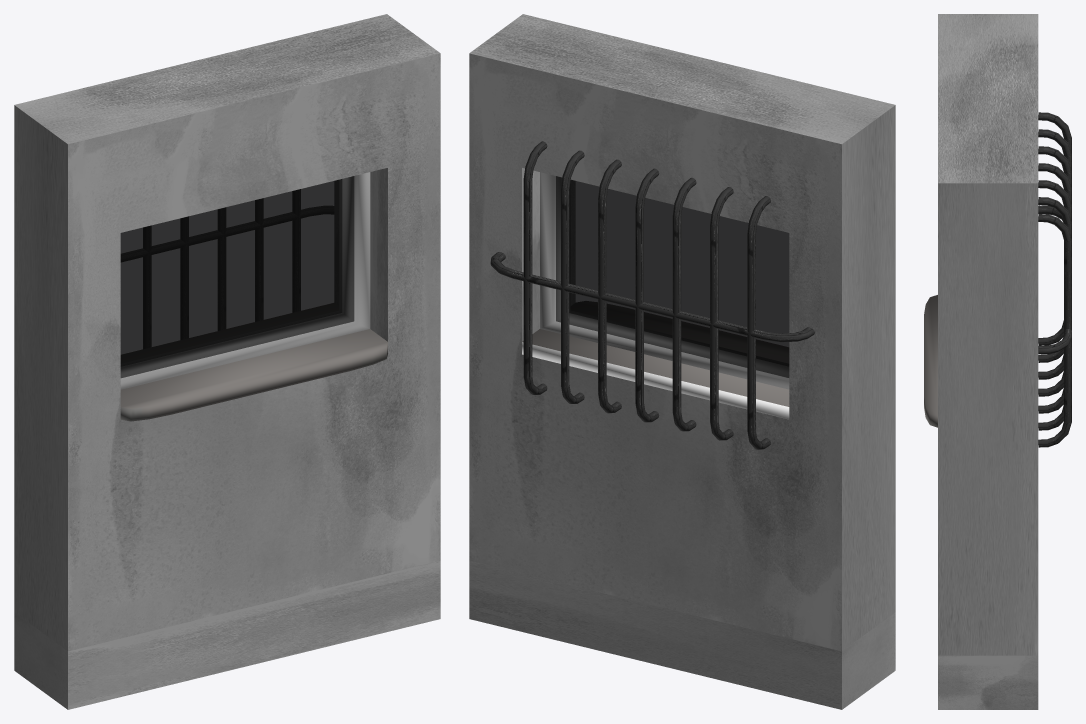
The model's file is Gitterstäbe.fbx.
The picture shows the model from 3 angles, left to right: view 1: azimuth 30°, elevation 25°; view 2: azimuth 150°, elevation 25°; view 3: azimuth 270°, elevation 25°; orthographic projection. The views are drawn at different scales.
Visible parts, largest first — view 1: WandFenster.001, Fenster.001, Cube.005, Plane.007, Plane.003, Plane.001, Plane.002, Gitterstäbe, Plane.006; view 2: WandFenster.001, Fenster.001, Cube.005, Plane.007, Plane.006, Plane.003, Gitterstäbe, Plane.001, Plane.004, Plane.005, Plane.002; view 3: WandFenster.001, Cube.005, Plane.003, Fenster.001, Gitterstäbe, Plane.006, Plane.001, Plane.002, Plane.004, Plane.005, Plane.007.
Boxes of the visible parts, x1,y1,x2,y2 form: WandFenster.001: (14,14,440,651); Fenster.001: (120,172,387,421); Cube.005: (14,560,440,709); Plane.007: (121,206,333,261); Plane.003: (293,189,300,311); Plane.001: (218,208,225,330); Plane.002: (255,199,262,321); Gitterstäbe: (181,217,188,339); Plane.006: (143,226,150,348); WandFenster.001: (469,14,895,651); Fenster.001: (522,172,789,419); Cube.005: (469,560,895,709); Plane.007: (490,252,814,342); Plane.006: (672,177,696,431); Plane.003: (523,141,547,394); Gitterstäbe: (635,168,659,422); Plane.001: (598,159,621,413); Plane.004: (747,196,770,449); Plane.005: (710,187,733,440); Plane.002: (561,150,584,403); WandFenster.001: (938,14,1038,655); Cube.005: (938,655,1038,709); Plane.003: (1038,214,1071,447); Fenster.001: (924,295,937,427); Gitterstäbe: (1038,163,1071,396); Plane.006: (1038,146,1071,379); Plane.001: (1038,180,1071,413); Plane.002: (1038,197,1071,430); Plane.004: (1038,112,1071,345); Plane.005: (1038,129,1071,362); Plane.007: (1038,205,1071,354).
Bounding box in the file's own units: 200 × 290 × 73.76.
